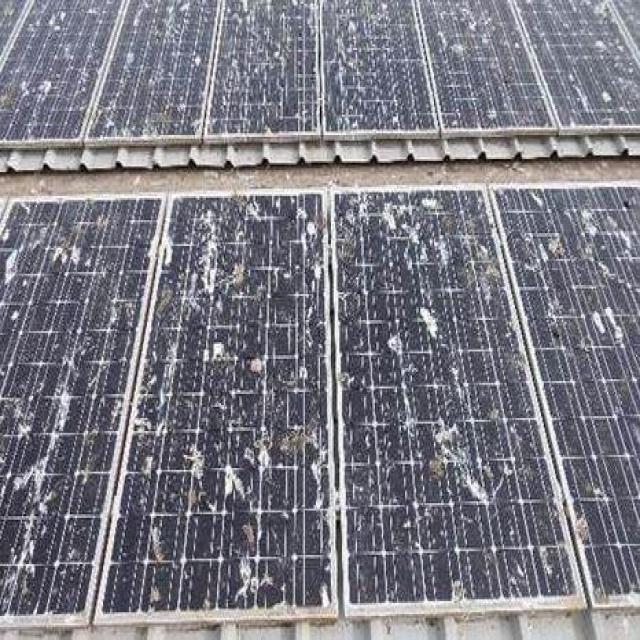soiled: (333, 186, 590, 620), (134, 186, 343, 624), (2, 194, 166, 638), (491, 185, 640, 640), (414, 2, 554, 152), (89, 3, 216, 152), (512, 2, 640, 146), (318, 2, 436, 154), (212, 1, 322, 156), (1, 2, 100, 158)
